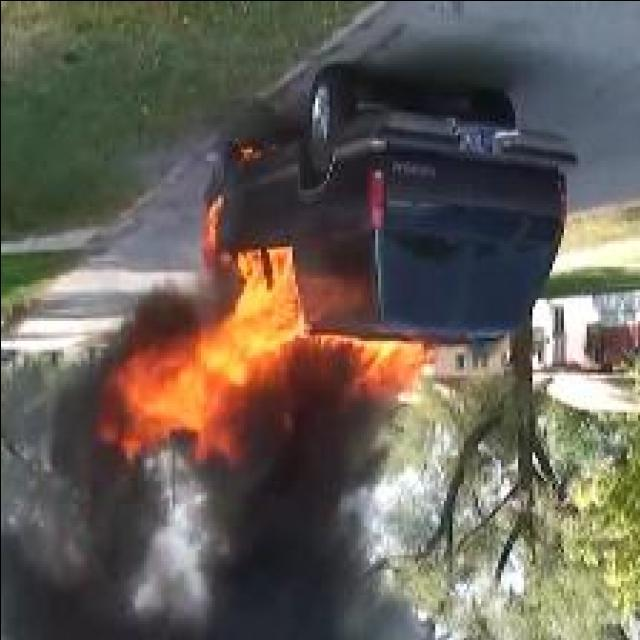Fire: (97, 248, 429, 462), (204, 198, 224, 252)
